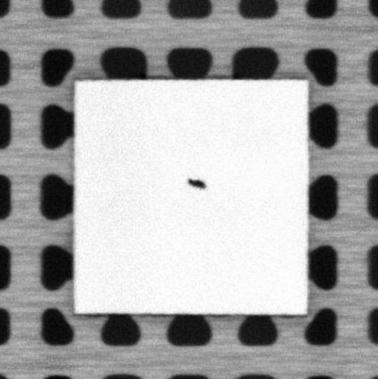DIE_INK: (188, 177, 207, 190)
